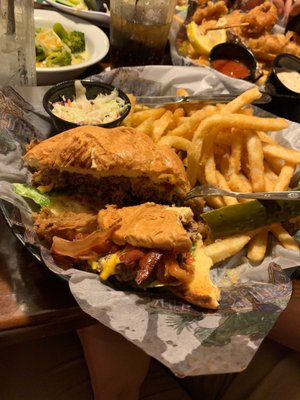curry: (52, 22, 86, 54)
pizza: (108, 0, 177, 69), (0, 0, 37, 91)
soup: (1, 124, 222, 311)
sushi: (168, 0, 300, 123), (17, 16, 110, 86), (42, 79, 132, 133)
